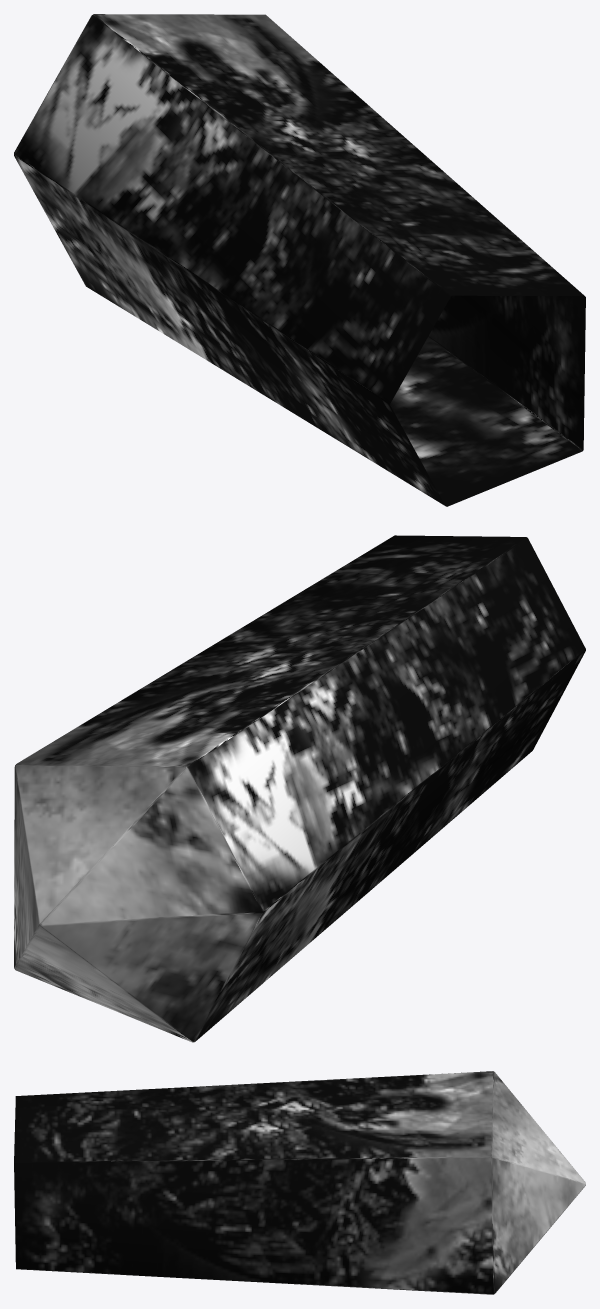
File: MEP_Crystal_01.fbx
3 renders of one model, top to bottom at view 1: azimuth 30°, elevation 25°; view 2: azimuth 150°, elevation 25°; view 3: azimuth 270°, elevation 25°, orthographic. The views are drawn at different scales.
Visible parts, largest first — view 1: MEP_Crystal_01; view 2: MEP_Crystal_01; view 3: MEP_Crystal_01.
Part boxes in pixels (<box>): MEP_Crystal_01: <box>14,14,585,506</box>; MEP_Crystal_01: <box>14,535,585,1042</box>; MEP_Crystal_01: <box>14,1071,585,1294</box>.
Size of the model in its own units: 1.84 by 1.92 by 5.32.
1 material, 1 textured.
